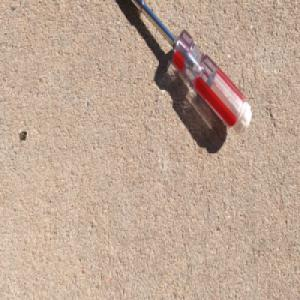Screwdriver: (129, 0, 253, 137)
